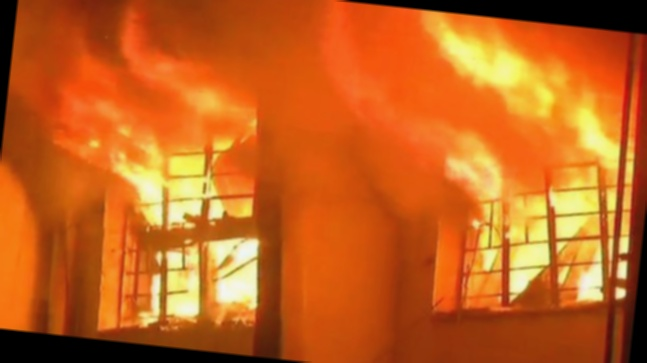fire: (406, 20, 647, 294), (53, 68, 263, 284)
